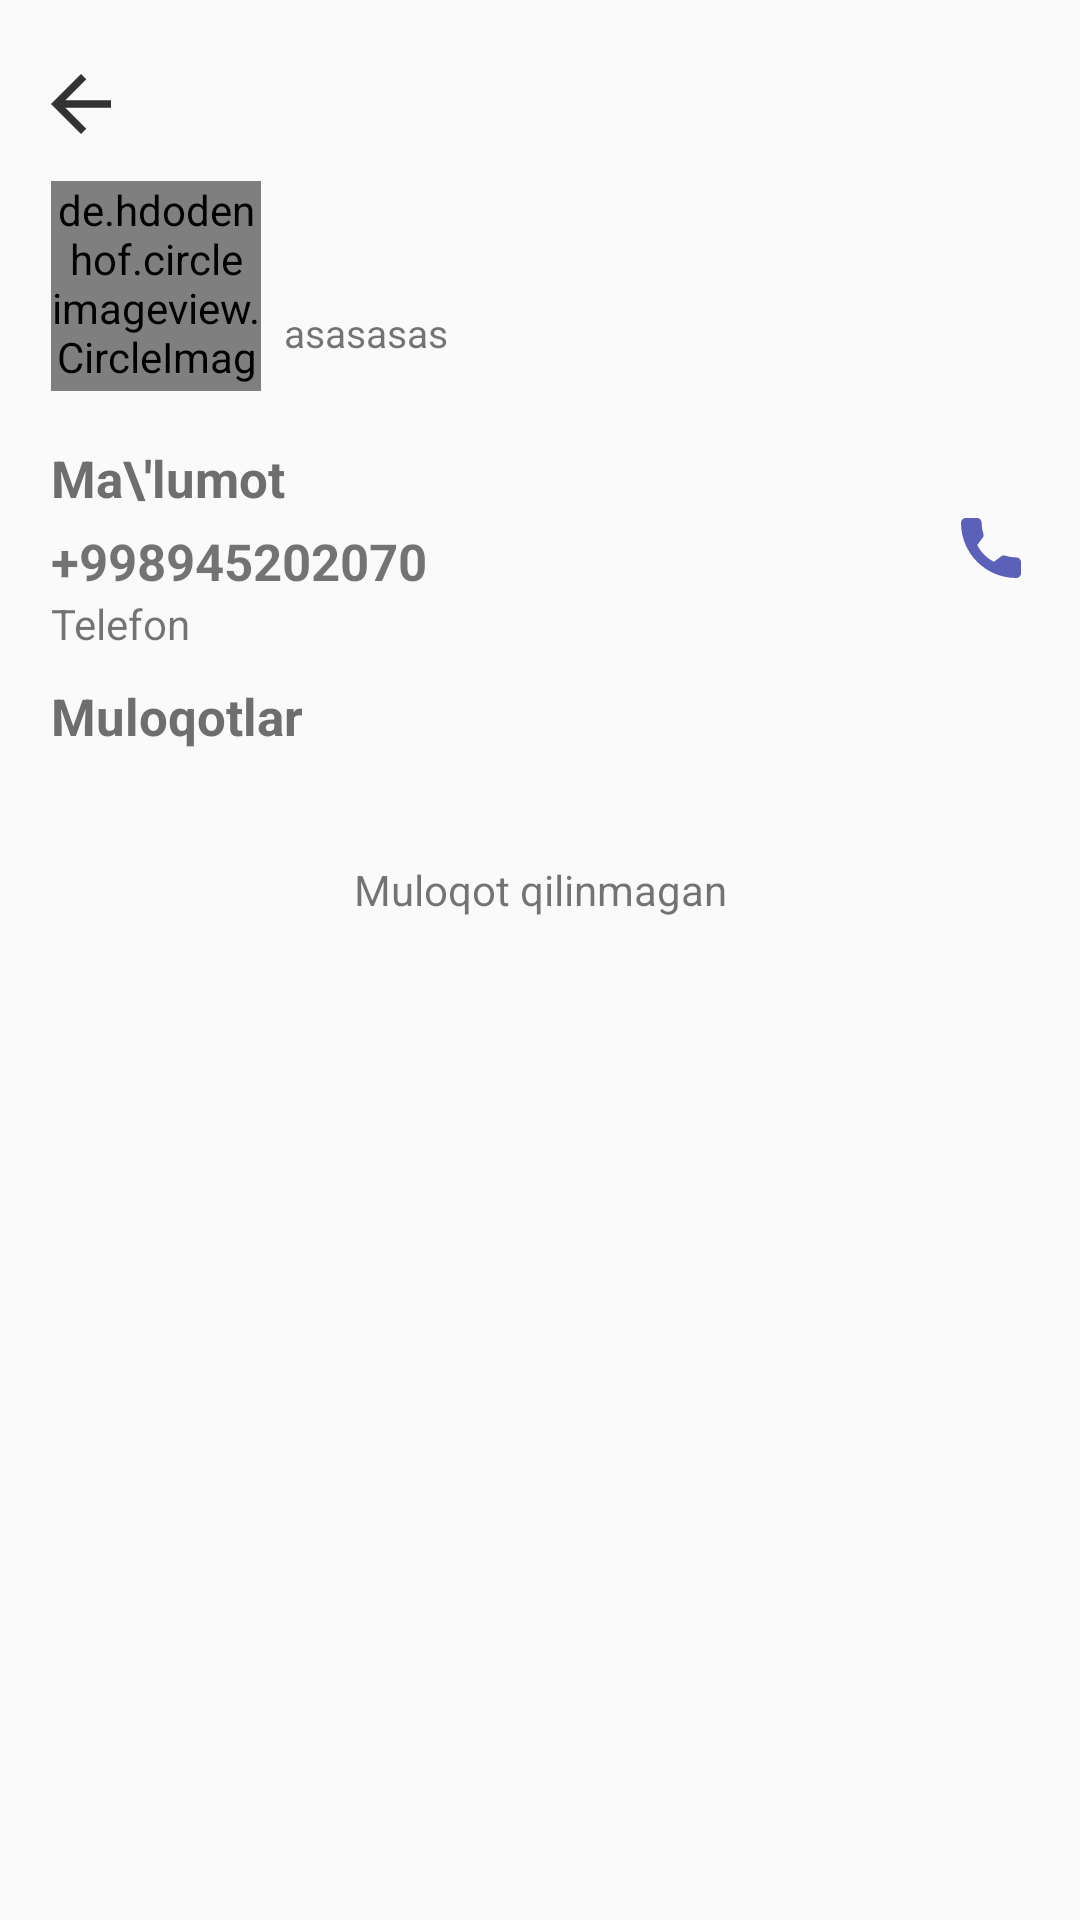

Icon bounding boxes for this 1080*1920 phone screenshot, format bbox=(x1, y1, x2, y2):
back: bbox=(51, 74, 111, 134)
call: bbox=(961, 518, 1021, 578)
